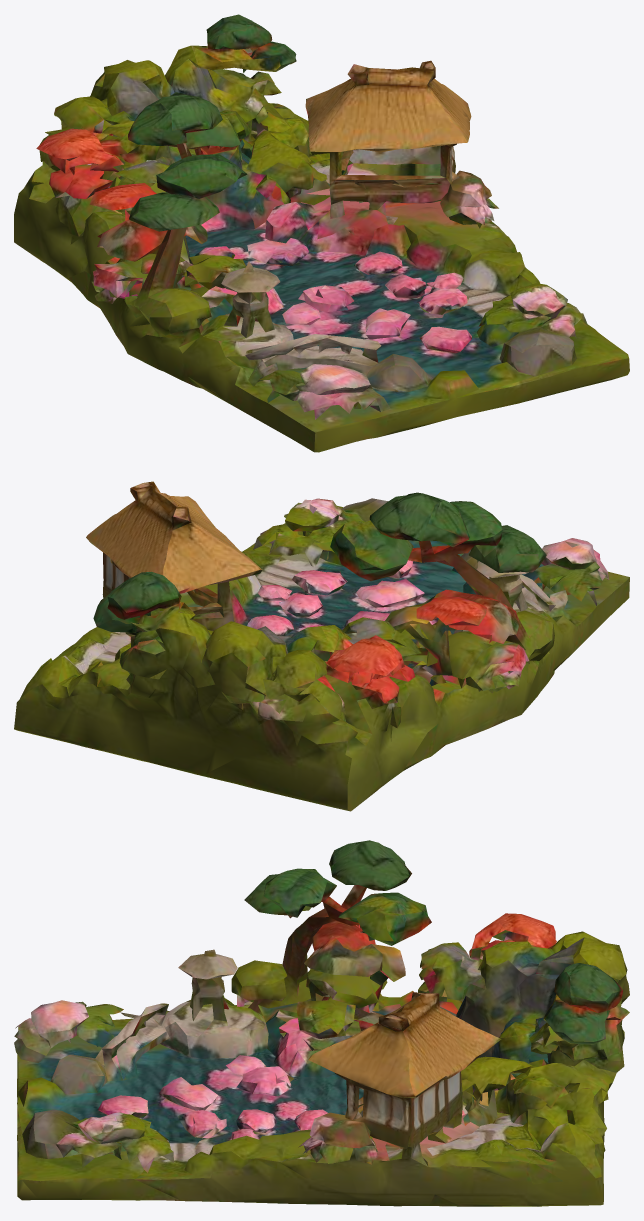
File: yushien.glb
3 renders of one model, top to bottom at view 1: azimuth 30°, elevation 25°; view 2: azimuth 150°, elevation 25°; view 3: azimuth 270°, elevation 25°, orthographic.
Parts seen in each view (by area): view 1: logan-textured.obj; view 2: logan-textured.obj; view 3: logan-textured.obj.
Boxes of the visible parts, <box> form: logan-textured.obj: <box>14,14,629,452</box>; logan-textured.obj: <box>14,481,629,811</box>; logan-textured.obj: <box>14,840,629,1206</box>.
Bounding box in the file's own units: 0.7594 × 0.398 × 1.
1 material, 1 textured.
